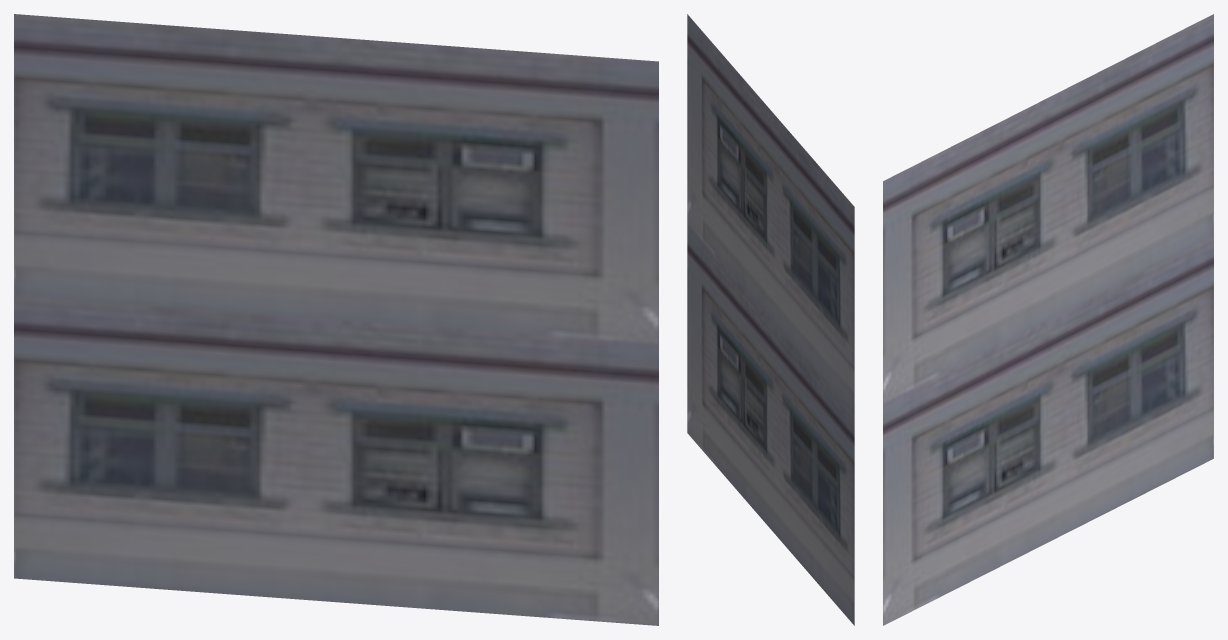
File: ResTex__4607.fbx
3 renders of one model, left to right at view 1: azimuth 30°, elevation 25°; view 2: azimuth 150°, elevation 25°; view 3: azimuth 270°, elevation 25°, orthographic. The views are drawn at different scales.
Visible parts, largest first — view 1: CityEngineMaterial_1_m; view 2: CityEngineMaterial_1_m; view 3: CityEngineMaterial_1_m.
Part boxes in pixels (left/top/right/bottom): CityEngineMaterial_1_m: left=14, top=14, right=658, bottom=625; CityEngineMaterial_1_m: left=687, top=14, right=854, bottom=625; CityEngineMaterial_1_m: left=883, top=14, right=1213, bottom=625.
Bounding box in the file's own units: 4.84 × 6 × 4.04.
Materials: 1 (1 with a texture image).
